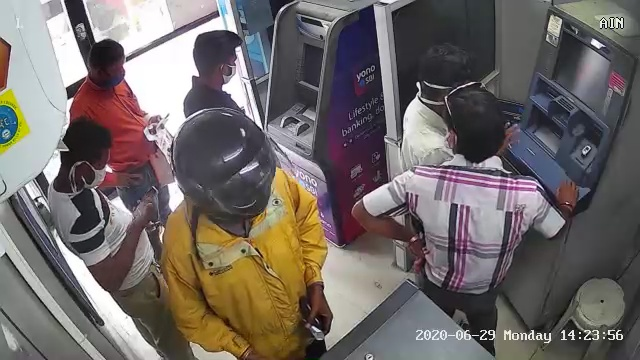helmet: (161, 108, 285, 229)
